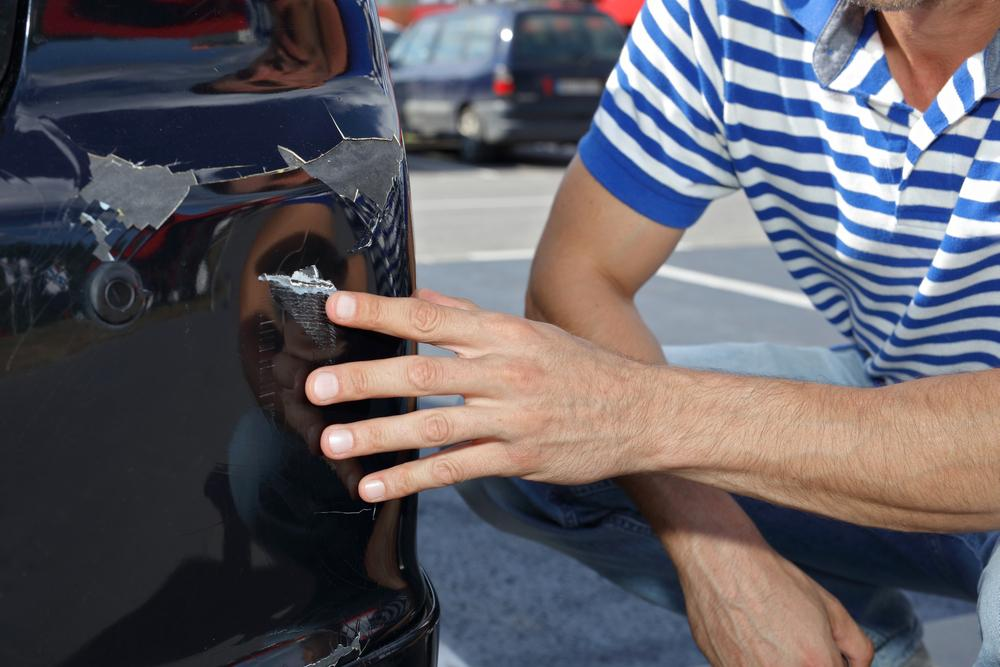scratch: (75, 129, 406, 257), (254, 262, 336, 410)
